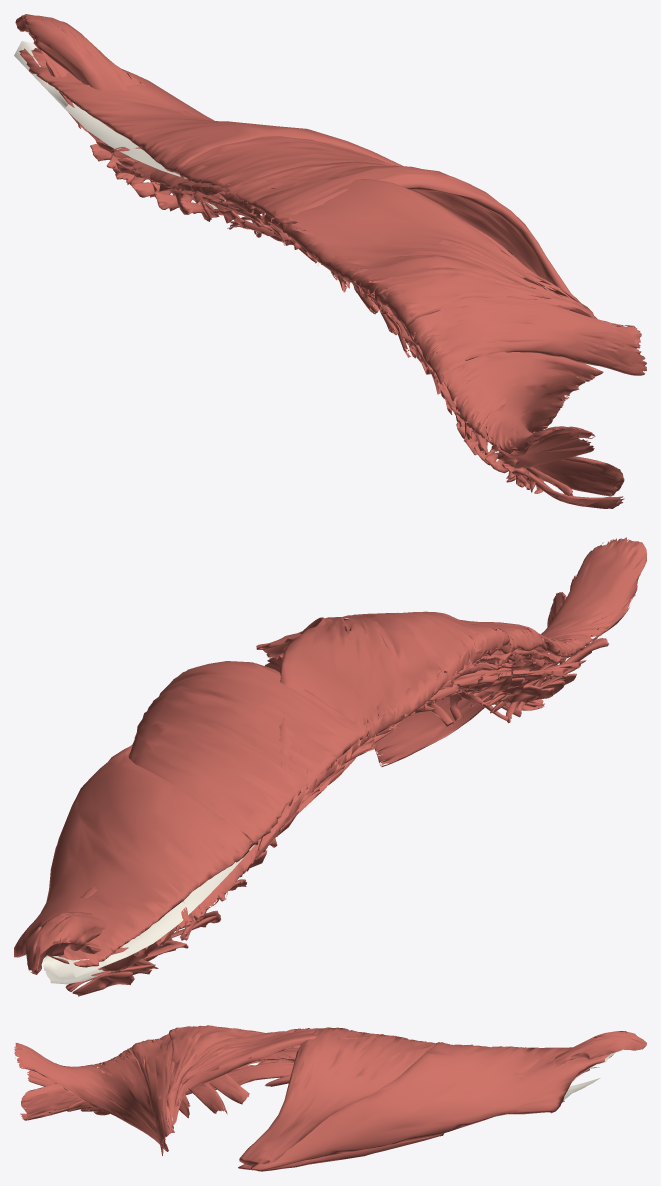
The model's file is backm.glb.
The picture shows the model from 3 angles, top to bottom: view 1: azimuth 30°, elevation 25°; view 2: azimuth 150°, elevation 25°; view 3: azimuth 270°, elevation 25°; orthographic projection. The views are drawn at different scales.
Visible parts, largest first — view 1: left latissimus dorsi, ascending part of left trapezius, transverse part of left trapezius, descending part of left trapezius, left iliocostalis lumborum, left splenius capitis, left posterior layer of thoracolumbar fascia, left semispinalis capitis, left multifidus lumborum, left longissimus thoracis, left spinalis thoracis, left semispinalis thoracis (+4 smaller); view 2: left latissimus dorsi, ascending part of left trapezius, descending part of left trapezius, left iliocostalis lumborum, left posterior layer of thoracolumbar fascia, left multifidus lumborum, transverse part of left trapezius, left longissimus thoracis, left semispinalis thoracis, left multifidus cervicis, left serratus posterior inferior, left splenius capitis (+4 smaller); view 3: left latissimus dorsi, ascending part of left trapezius, descending part of left trapezius, transverse part of left trapezius, left iliocostalis lumborum, left serratus posterior superior, left splenius capitis, left iliocostalis thoracis, left levator scapulae, left semispinalis capitis, left rhomboid major.
Boxes of the visible parts, x1,y1,x2,y2 form: left latissimus dorsi: (19,48,593,314); ascending part of left trapezius: (176,178,597,325); transverse part of left trapezius: (379,289,646,384); descending part of left trapezius: (437,351,603,457); left iliocostalis lumborum: (15,14,196,117); left splenius capitis: (366,291,624,496); left posterior layer of thoracolumbar fascia: (14,41,208,186); left semispinalis capitis: (486,432,594,468); left multifidus lumborum: (90,144,213,219); left longissimus thoracis: (33,38,254,223); left spinalis thoracis: (116,162,387,314); left semispinalis thoracis: (227,220,431,374); left latissimus dorsi: (14,661,369,967); ascending part of left trapezius: (254,611,509,863); descending part of left trapezius: (375,537,646,766); left iliocostalis lumborum: (25,886,106,974); left posterior layer of thoracolumbar fascia: (52,839,259,977); left multifidus lumborum: (65,850,267,996); transverse part of left trapezius: (256,619,546,672); left longissimus thoracis: (51,690,474,973); left semispinalis thoracis: (296,667,513,814); left multifidus cervicis: (491,638,608,704); left serratus posterior inferior: (175,838,277,931); left splenius capitis: (458,592,566,673); left latissimus dorsi: (238,1027,613,1171); ascending part of left trapezius: (167,1025,389,1128); descending part of left trapezius: (14,1043,168,1151); transverse part of left trapezius: (131,1026,191,1155); left iliocostalis lumborum: (264,1031,646,1086); left serratus posterior superior: (179,1073,249,1118); left splenius capitis: (21,1068,104,1116); left iliocostalis thoracis: (185,1061,293,1095); left levator scapulae: (49,1100,109,1115); left semispinalis capitis: (27,1070,55,1086); left rhomboid major: (227,1039,295,1063).
Bounding box in the file's own units: 189 × 125 × 676.
